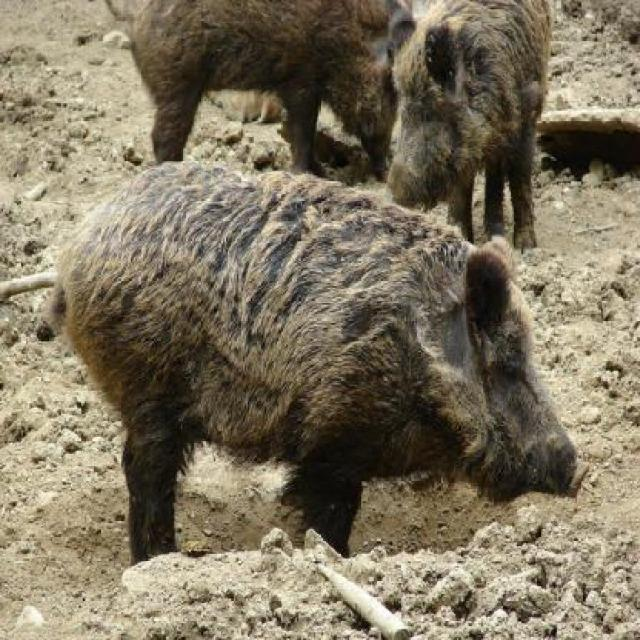wildboar: (33, 150, 592, 568), (99, 0, 432, 202), (377, 0, 563, 252)
